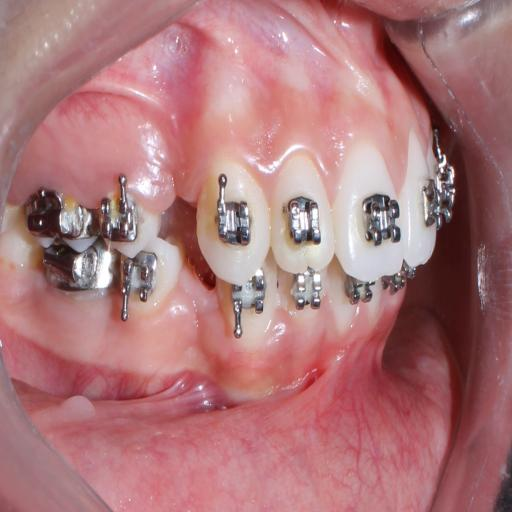correct_brace: (360, 184, 404, 256), (214, 192, 255, 252), (281, 194, 323, 250)
incorrect_brace: (271, 156, 334, 274)
